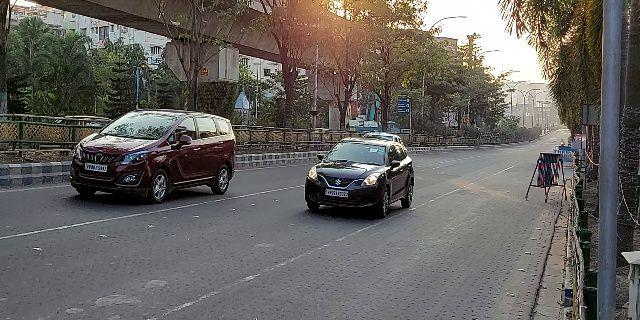Car: (64, 103, 239, 203), (296, 134, 418, 223)
